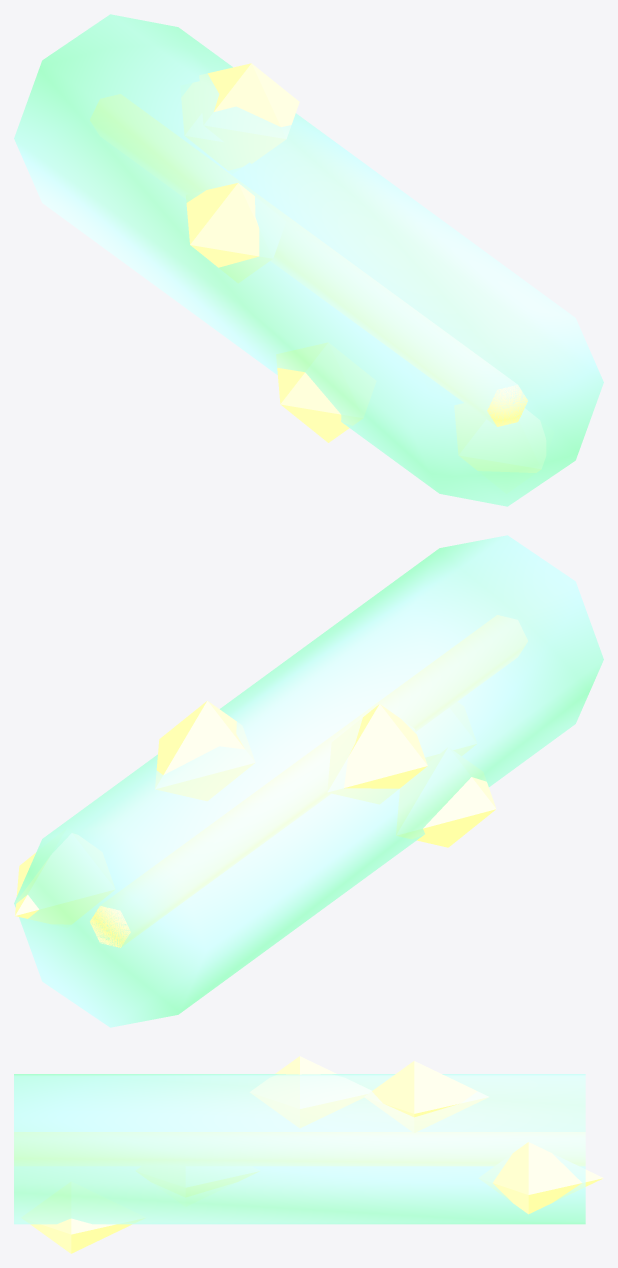
Rendered from fx_heal.glb.
3 renders of one model, top to bottom at view 1: azimuth 30°, elevation 25°; view 2: azimuth 150°, elevation 25°; view 3: azimuth 270°, elevation 25°, orthographic. The views are drawn at different scales.
Visible parts, largest first — view 1: fx_heal; view 2: fx_heal; view 3: fx_heal.
Boxes of the visible parts, x1,y1,x2,y2 form: fx_heal: [14, 14, 603, 506]; fx_heal: [14, 535, 603, 1027]; fx_heal: [14, 1056, 603, 1253].
Size of the model in its own units: 0.3628 by 0.3616 by 1.03.
